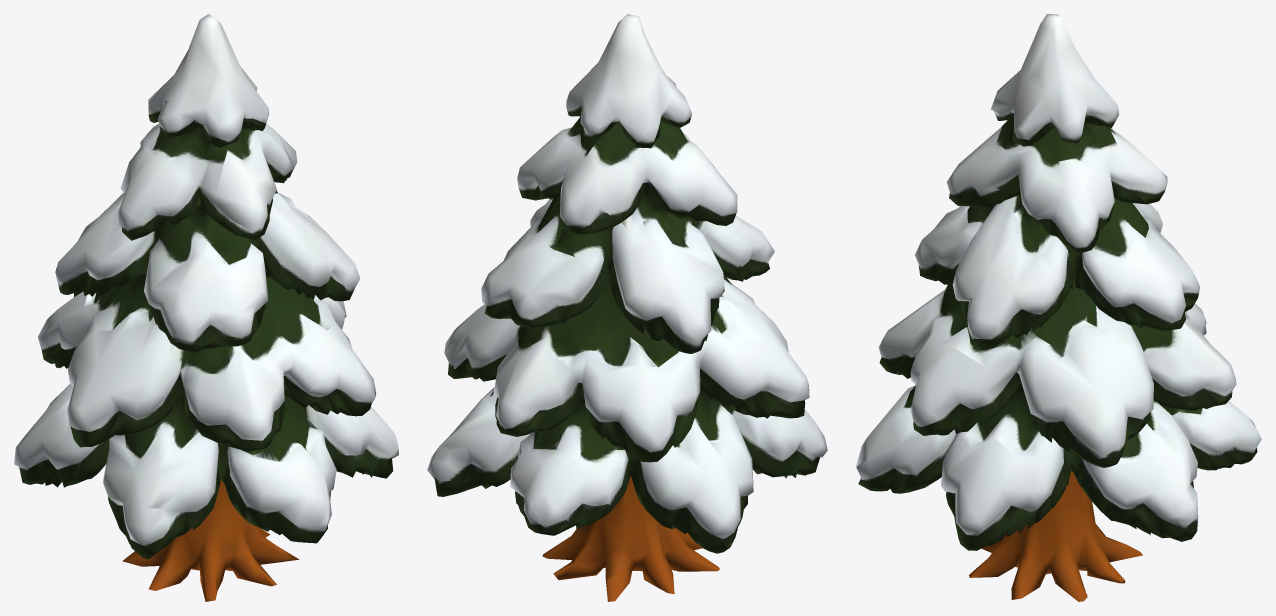
Rendered from pine_snow_c.glb.
3 views of the same model, side by side, from view 1: azimuth 30°, elevation 25°; view 2: azimuth 150°, elevation 25°; view 3: azimuth 270°, elevation 25° (orthographic).
Visible parts, largest first — view 1: tripo_node_cacfad4b-0d88-4f2a-af9f-743c8062c75e; view 2: tripo_node_cacfad4b-0d88-4f2a-af9f-743c8062c75e; view 3: tripo_node_cacfad4b-0d88-4f2a-af9f-743c8062c75e.
Part boxes in pixels (x1,y1,x2,y2): tripo_node_cacfad4b-0d88-4f2a-af9f-743c8062c75e: [14, 14, 398, 601]; tripo_node_cacfad4b-0d88-4f2a-af9f-743c8062c75e: [427, 14, 827, 601]; tripo_node_cacfad4b-0d88-4f2a-af9f-743c8062c75e: [856, 14, 1261, 601].
Size of the model in its own units: 3.03 by 4.98 by 3.33.
Materials: 1 (1 with a texture image).
